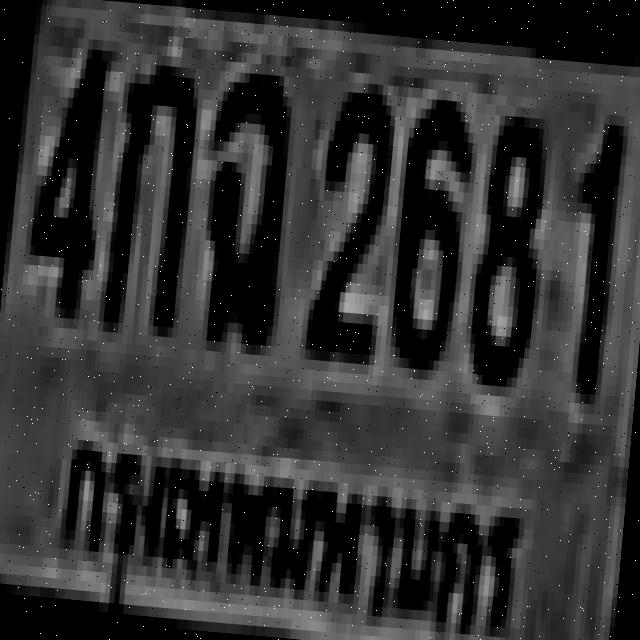1: (559, 113, 622, 384)
10GorGai: (98, 52, 196, 327)
18ChorChing: (192, 60, 290, 335)
2: (302, 80, 390, 354)
4: (20, 34, 108, 310)
6: (384, 86, 472, 362)
8: (462, 104, 545, 378)
Bangkok: (34, 406, 535, 640)
